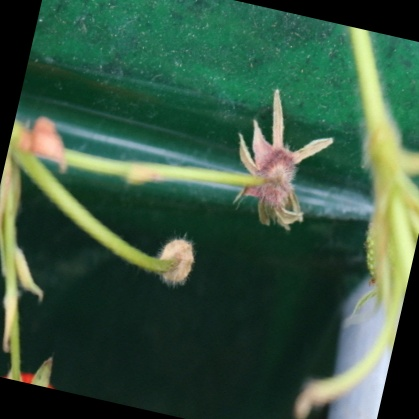Gray_Mold: (220, 76, 316, 214)
